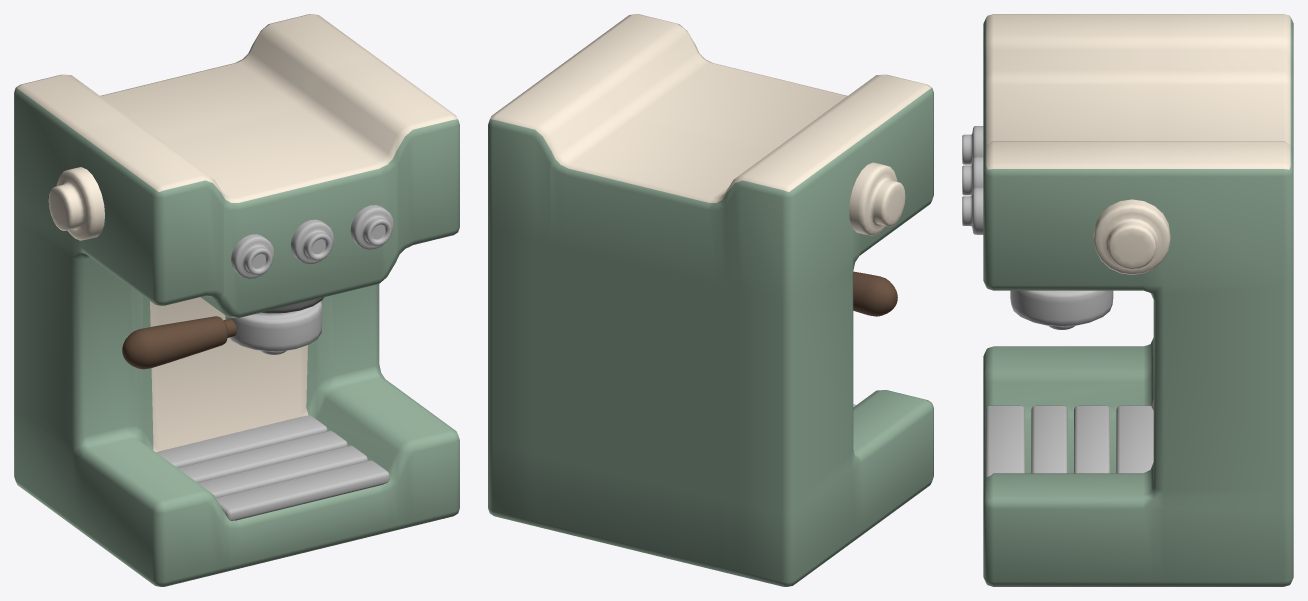
The model's file is Machine_Espresso_01.glb.
3 views of the same model, side by side, from view 1: azimuth 30°, elevation 25°; view 2: azimuth 150°, elevation 25°; view 3: azimuth 270°, elevation 25° (orthographic). The views are drawn at different scales.
Parts seen in each view (by area): view 1: SM_Machine_Espresso_01_Body, SM_Machine_Espresso_02_DripTray, SM_Machine_Espresso_02_Portafilter, SM_Machine_Espresso_02_ButtonTop, SM_Machine_Espresso_02_ButtonSide; view 2: SM_Machine_Espresso_01_Body, SM_Machine_Espresso_02_ButtonSide, SM_Machine_Espresso_02_Portafilter; view 3: SM_Machine_Espresso_01_Body, SM_Machine_Espresso_02_DripTray, SM_Machine_Espresso_02_ButtonSide, SM_Machine_Espresso_02_Portafilter, SM_Machine_Espresso_02_ButtonTop.
Boxes of the visible parts, box(x1,y1,x2,y2) form: SM_Machine_Espresso_01_Body: box(14, 14, 459, 586); SM_Machine_Espresso_02_DripTray: box(156, 415, 389, 520); SM_Machine_Espresso_02_Portafilter: box(122, 301, 322, 369); SM_Machine_Espresso_02_ButtonTop: box(231, 205, 393, 278); SM_Machine_Espresso_02_ButtonSide: box(48, 167, 104, 240); SM_Machine_Espresso_01_Body: box(488, 14, 933, 586); SM_Machine_Espresso_02_ButtonSide: box(849, 162, 905, 235); SM_Machine_Espresso_02_Portafilter: box(853, 271, 897, 316); SM_Machine_Espresso_01_Body: box(983, 14, 1293, 586); SM_Machine_Espresso_02_DripTray: box(985, 405, 1153, 478); SM_Machine_Espresso_02_ButtonSide: box(1093, 199, 1170, 274); SM_Machine_Espresso_02_Portafilter: box(1010, 290, 1113, 329); SM_Machine_Espresso_02_ButtonTop: box(962, 126, 983, 234).
Bounding box in the file's own units: 1.1 × 1.17 × 0.8271.
2 materials, 2 textured.
